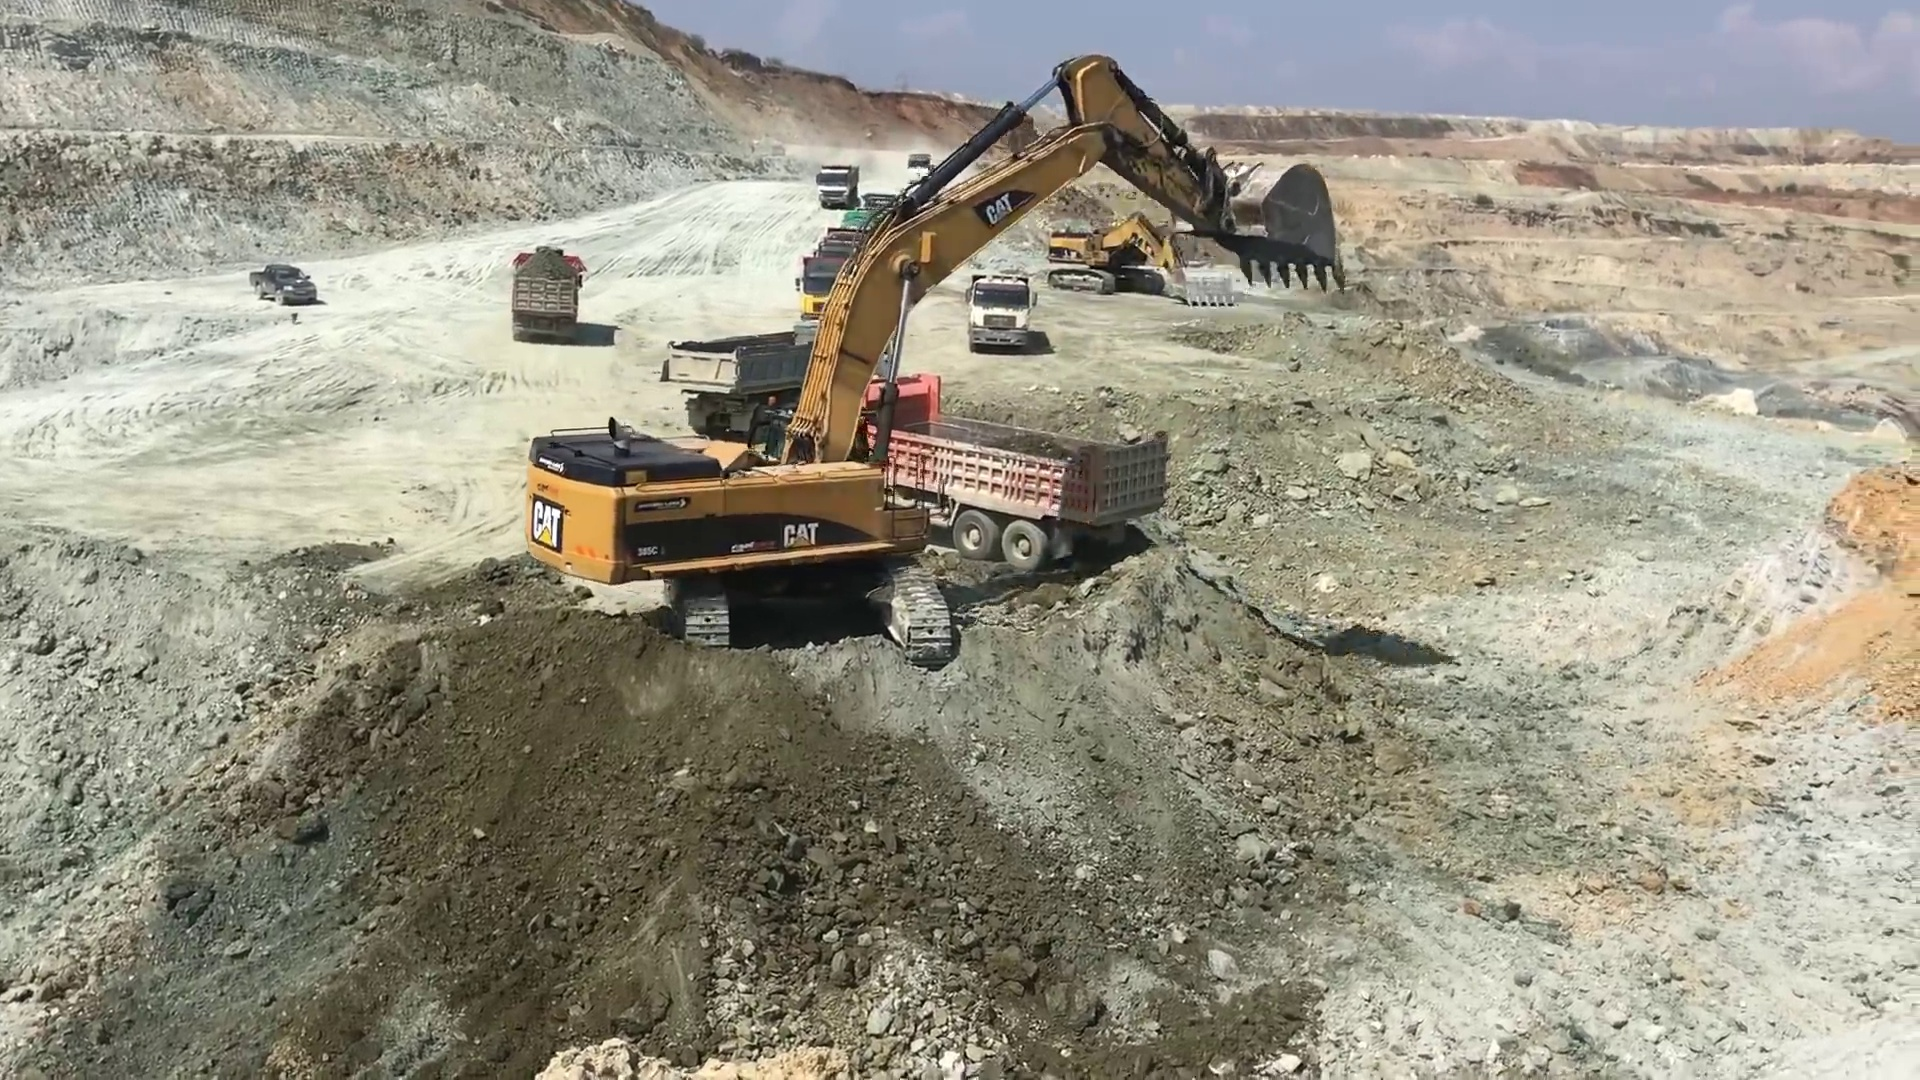car: (245, 258, 323, 311)
excavator: (526, 53, 1350, 665), (1043, 214, 1238, 316)
truck: (833, 371, 1174, 576), (651, 314, 820, 433), (502, 243, 589, 351), (965, 274, 1034, 355), (812, 160, 864, 208)
